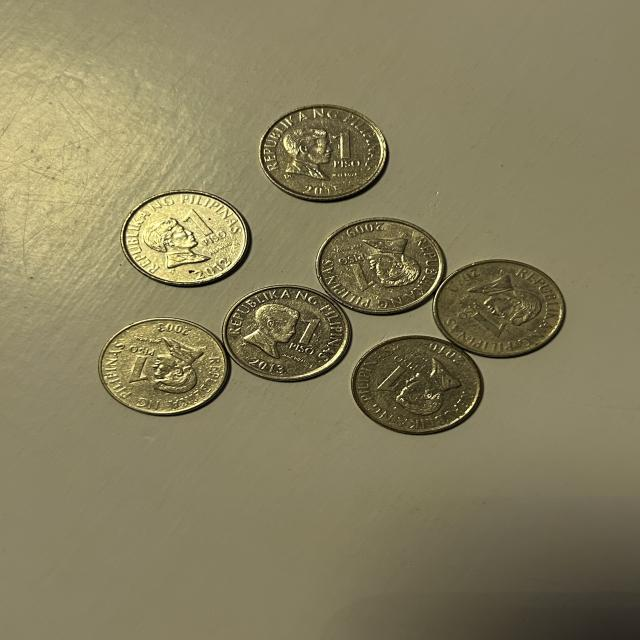1_Old_Front: (175, 204, 232, 253), (377, 350, 427, 400), (456, 300, 509, 343), (333, 251, 377, 296), (328, 128, 363, 173), (289, 313, 323, 357), (124, 345, 159, 385)
